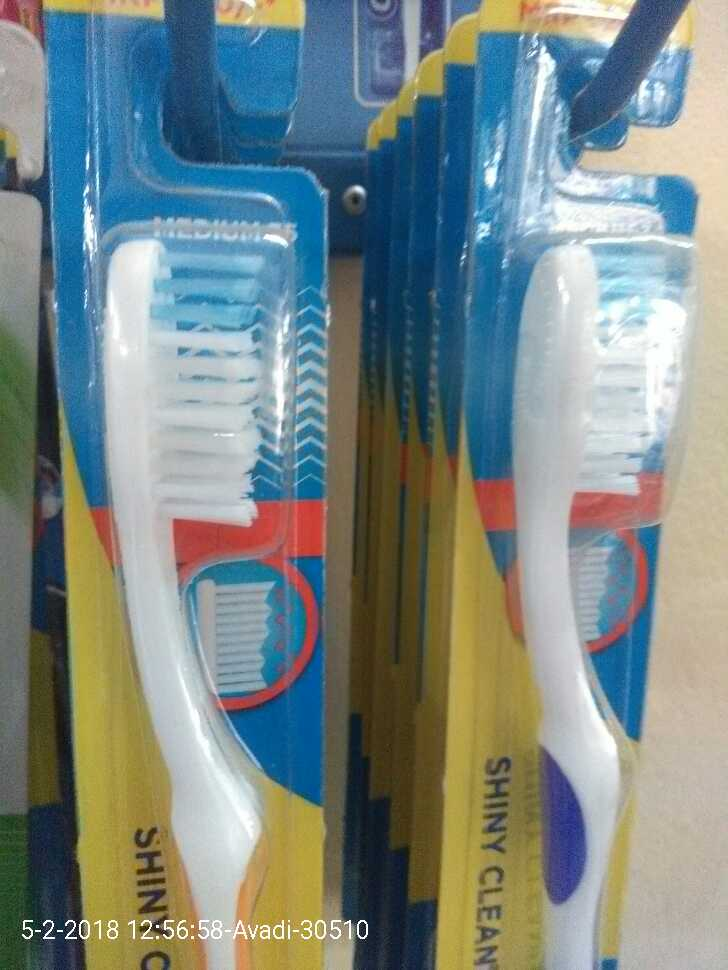oralb: (76, 208, 295, 970), (475, 208, 693, 970)
